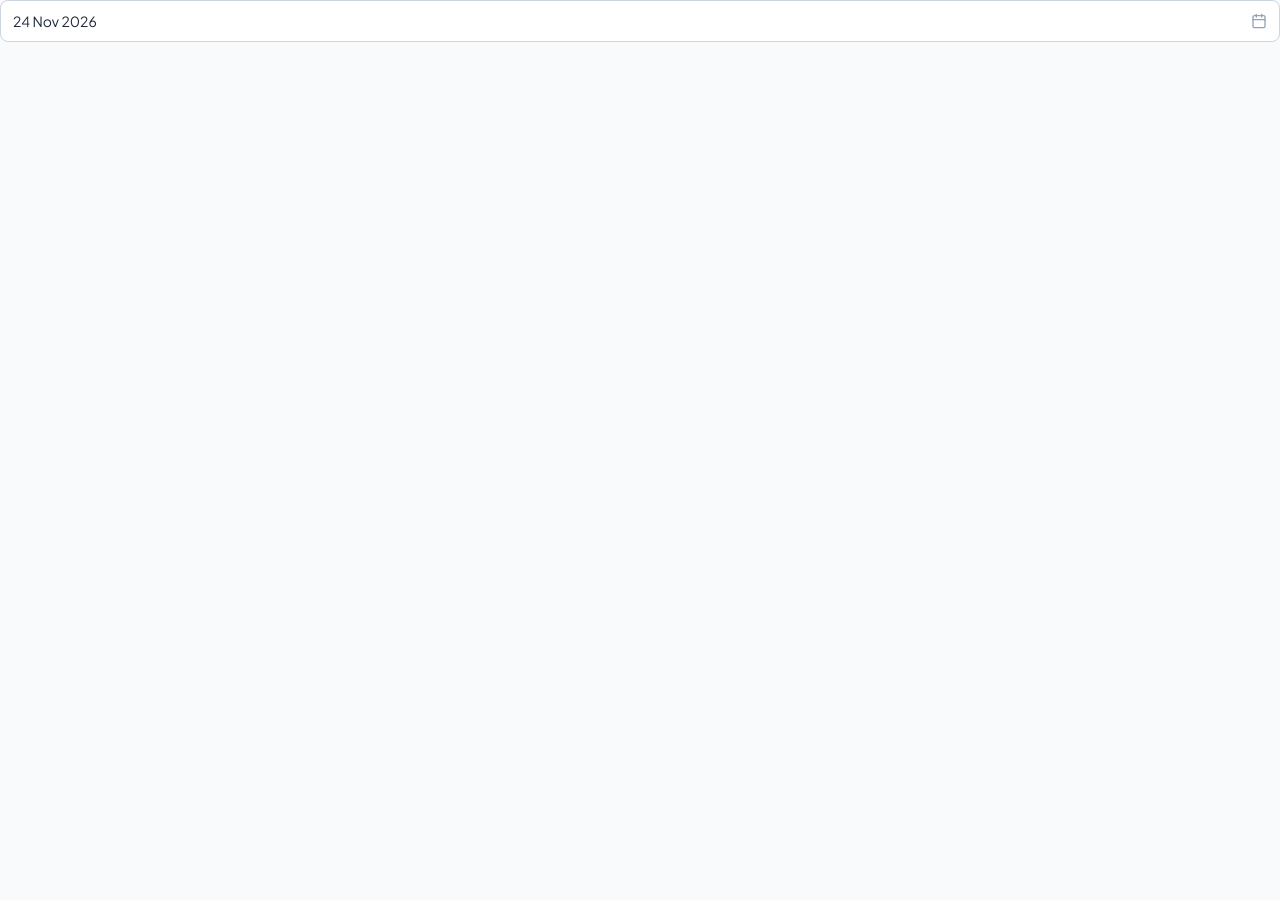
Test: DatePicker › menolak tanggal di luar batas min/max
Click the button "24 Nov 2026".
click(55, 21)  # box [0,0,1279,42]
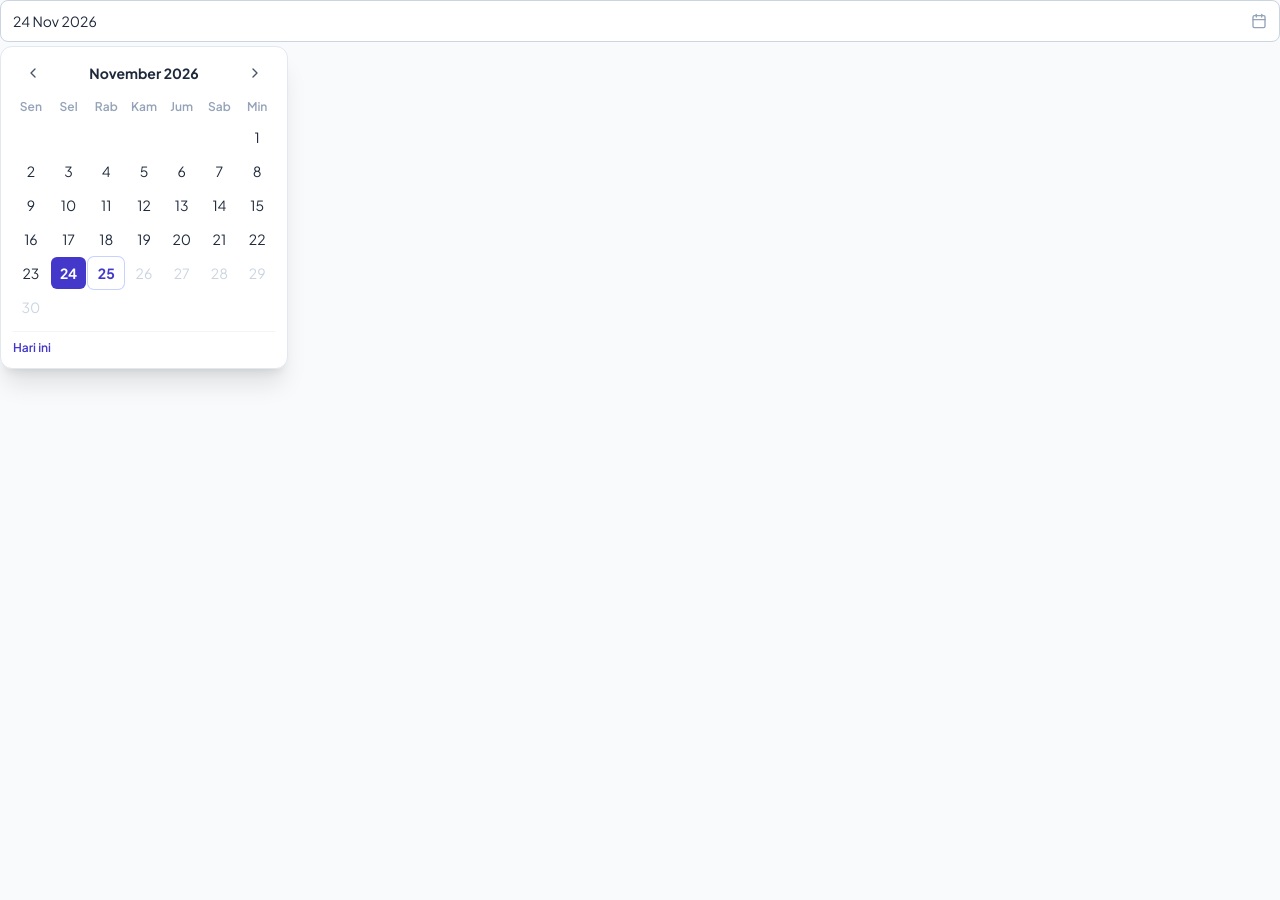
Now the button "28" is disabled, box [202,257,237,289]
